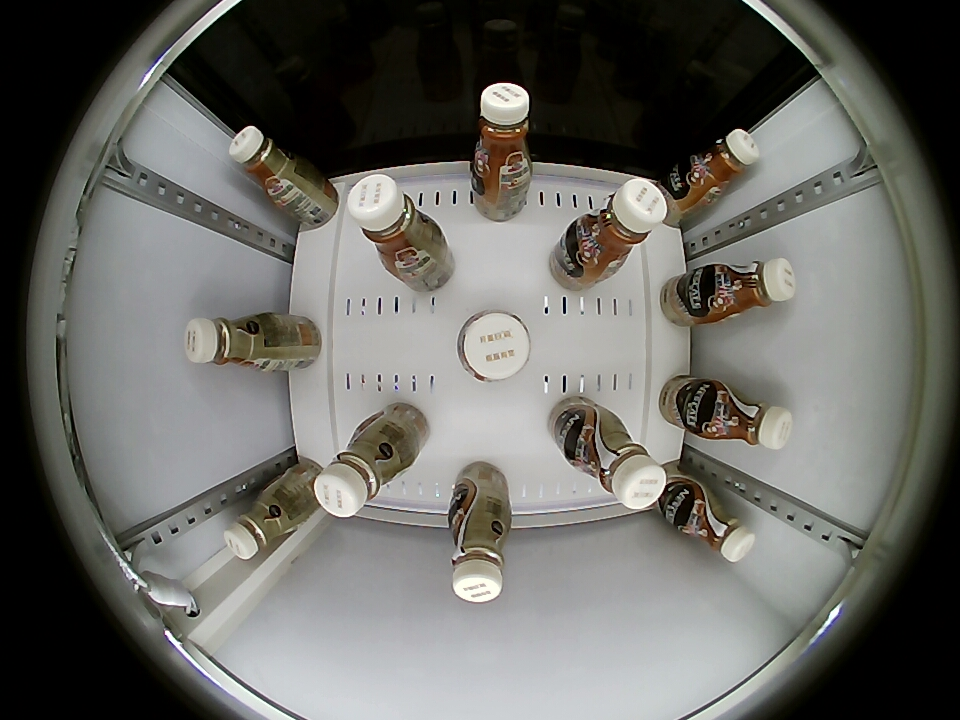kafei: (567, 413, 667, 510), (571, 177, 668, 276), (314, 422, 408, 519), (348, 173, 440, 266), (224, 481, 311, 560), (471, 82, 534, 186), (448, 500, 511, 603), (700, 381, 793, 450), (673, 484, 755, 562), (229, 126, 311, 202), (682, 128, 759, 202), (707, 258, 796, 322), (456, 310, 532, 383), (185, 314, 271, 371)
